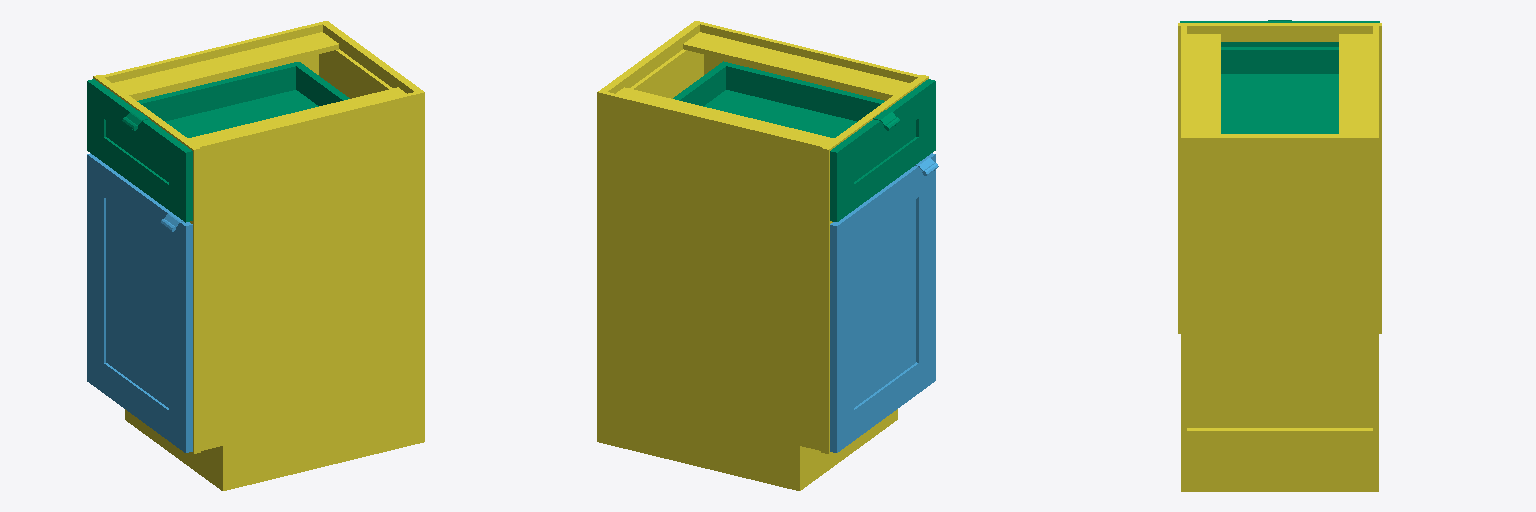
URDF robot description (partnet_1a4d4980bbe2dcf24da5feafe6f1c8fc):
<?xml version="1.0" ?>
<robot name="partnet_1a4d4980bbe2dcf24da5feafe6f1c8fc">
	<link name="base"/>
	<link name="link_0">
		<visual name="cabinet_door_surface-18">
			<origin xyz="0.3648322873359168 0.6121780276298523 -0.5319523066184498"/>
			<geometry>
				<mesh filename="textured_objs/original-43.obj"/>
			</geometry>
		</visual>
		<visual name="cabinet_door_surface-18">
			<origin xyz="0.3648322873359168 0.6121780276298523 -0.5319523066184498"/>
			<geometry>
				<mesh filename="textured_objs/original-44.obj"/>
			</geometry>
		</visual>
		<visual name="cabinet_door_surface-18">
			<origin xyz="0.3648322873359168 0.6121780276298523 -0.5319523066184498"/>
			<geometry>
				<mesh filename="textured_objs/original-49.obj"/>
			</geometry>
		</visual>
		<visual name="cabinet_door_surface-18">
			<origin xyz="0.3648322873359168 0.6121780276298523 -0.5319523066184498"/>
			<geometry>
				<mesh filename="textured_objs/original-46.obj"/>
			</geometry>
		</visual>
		<visual name="cabinet_door_surface-18">
			<origin xyz="0.3648322873359168 0.6121780276298523 -0.5319523066184498"/>
			<geometry>
				<mesh filename="textured_objs/original-45.obj"/>
			</geometry>
		</visual>
		<visual name="cabinet_door_surface-18">
			<origin xyz="0.3648322873359168 0.6121780276298523 -0.5319523066184498"/>
			<geometry>
				<mesh filename="textured_objs/original-48.obj"/>
			</geometry>
		</visual>
		<visual name="handle-19">
			<origin xyz="0.3648322873359168 0.6121780276298523 -0.5319523066184498"/>
			<geometry>
				<mesh filename="textured_objs/original-50.obj"/>
			</geometry>
		</visual>
		<collision>
			<origin xyz="0.3648322873359168 0.6121780276298523 -0.5319523066184498"/>
			<geometry>
				<mesh filename="textured_objs/original-43.obj"/>
			</geometry>
		</collision>
		<collision>
			<origin xyz="0.3648322873359168 0.6121780276298523 -0.5319523066184498"/>
			<geometry>
				<mesh filename="textured_objs/original-44.obj"/>
			</geometry>
		</collision>
		<collision>
			<origin xyz="0.3648322873359168 0.6121780276298523 -0.5319523066184498"/>
			<geometry>
				<mesh filename="textured_objs/original-49.obj"/>
			</geometry>
		</collision>
		<collision>
			<origin xyz="0.3648322873359168 0.6121780276298523 -0.5319523066184498"/>
			<geometry>
				<mesh filename="textured_objs/original-46.obj"/>
			</geometry>
		</collision>
		<collision>
			<origin xyz="0.3648322873359168 0.6121780276298523 -0.5319523066184498"/>
			<geometry>
				<mesh filename="textured_objs/original-45.obj"/>
			</geometry>
		</collision>
		<collision>
			<origin xyz="0.3648322873359168 0.6121780276298523 -0.5319523066184498"/>
			<geometry>
				<mesh filename="textured_objs/original-48.obj"/>
			</geometry>
		</collision>
		<collision>
			<origin xyz="0.3648322873359168 0.6121780276298523 -0.5319523066184498"/>
			<geometry>
				<mesh filename="textured_objs/original-50.obj"/>
			</geometry>
		</collision>
	</link>
	<joint name="joint_0" type="revolute">
		<origin xyz="-0.3648322873359168 -0.6121780276298523 0.5319523066184498"/>
		<axis xyz="0 -1 0"/>
		<child link="link_0"/>
		<parent link="link_2"/>
		<limit lower="0.0" upper="1.5707963267948966"/>
	</joint>
	<link name="link_1">
		<visual name="drawer_side-9">
			<origin xyz="0.00013619157295713738 -0.5032412121411816 0.478222995996475"/>
			<geometry>
				<mesh filename="textured_objs/original-30.obj"/>
			</geometry>
		</visual>
		<visual name="drawer_side-10">
			<origin xyz="0.00013619157295713738 -0.5032412121411816 0.478222995996475"/>
			<geometry>
				<mesh filename="textured_objs/original-25.obj"/>
			</geometry>
		</visual>
		<visual name="drawer_back-11">
			<origin xyz="0.00013619157295713738 -0.5032412121411816 0.478222995996475"/>
			<geometry>
				<mesh filename="textured_objs/original-31.obj"/>
			</geometry>
		</visual>
		<visual name="drawer_bottom-12">
			<origin xyz="0.00013619157295713738 -0.5032412121411816 0.478222995996475"/>
			<geometry>
				<mesh filename="textured_objs/original-29.obj"/>
			</geometry>
		</visual>
		<visual name="drawer_bottom-12">
			<origin xyz="0.00013619157295713738 -0.5032412121411816 0.478222995996475"/>
			<geometry>
				<mesh filename="textured_objs/original-28.obj"/>
			</geometry>
		</visual>
		<visual name="drawer_front-14">
			<origin xyz="0.00013619157295713738 -0.5032412121411816 0.478222995996475"/>
			<geometry>
				<mesh filename="textured_objs/original-39.obj"/>
			</geometry>
		</visual>
		<visual name="drawer_front-14">
			<origin xyz="0.00013619157295713738 -0.5032412121411816 0.478222995996475"/>
			<geometry>
				<mesh filename="textured_objs/original-26.obj"/>
			</geometry>
		</visual>
		<visual name="drawer_front-15">
			<origin xyz="0.00013619157295713738 -0.5032412121411816 0.478222995996475"/>
			<geometry>
				<mesh filename="textured_objs/original-34.obj"/>
			</geometry>
		</visual>
		<visual name="drawer_front-15">
			<origin xyz="0.00013619157295713738 -0.5032412121411816 0.478222995996475"/>
			<geometry>
				<mesh filename="textured_objs/original-36.obj"/>
			</geometry>
		</visual>
		<visual name="drawer_front-15">
			<origin xyz="0.00013619157295713738 -0.5032412121411816 0.478222995996475"/>
			<geometry>
				<mesh filename="textured_objs/original-37.obj"/>
			</geometry>
		</visual>
		<visual name="drawer_front-15">
			<origin xyz="0.00013619157295713738 -0.5032412121411816 0.478222995996475"/>
			<geometry>
				<mesh filename="textured_objs/original-40.obj"/>
			</geometry>
		</visual>
		<visual name="drawer_front-15">
			<origin xyz="0.00013619157295713738 -0.5032412121411816 0.478222995996475"/>
			<geometry>
				<mesh filename="textured_objs/original-35.obj"/>
			</geometry>
		</visual>
		<visual name="other_leaf-17">
			<origin xyz="0.00013619157295713738 -0.5032412121411816 0.478222995996475"/>
			<geometry>
				<mesh filename="textured_objs/original-32.obj"/>
			</geometry>
		</visual>
		<visual name="handle-13">
			<origin xyz="0.00013619157295713738 -0.5032412121411816 0.478222995996475"/>
			<geometry>
				<mesh filename="textured_objs/original-41.obj"/>
			</geometry>
		</visual>
		<collision>
			<origin xyz="0.00013619157295713738 -0.5032412121411816 0.478222995996475"/>
			<geometry>
				<mesh filename="textured_objs/original-30.obj"/>
			</geometry>
		</collision>
		<collision>
			<origin xyz="0.00013619157295713738 -0.5032412121411816 0.478222995996475"/>
			<geometry>
				<mesh filename="textured_objs/original-25.obj"/>
			</geometry>
		</collision>
		<collision>
			<origin xyz="0.00013619157295713738 -0.5032412121411816 0.478222995996475"/>
			<geometry>
				<mesh filename="textured_objs/original-31.obj"/>
			</geometry>
		</collision>
		<collision>
			<origin xyz="0.00013619157295713738 -0.5032412121411816 0.478222995996475"/>
			<geometry>
				<mesh filename="textured_objs/original-29.obj"/>
			</geometry>
		</collision>
		<collision>
			<origin xyz="0.00013619157295713738 -0.5032412121411816 0.478222995996475"/>
			<geometry>
				<mesh filename="textured_objs/original-28.obj"/>
			</geometry>
		</collision>
		<collision>
			<origin xyz="0.00013619157295713738 -0.5032412121411816 0.478222995996475"/>
			<geometry>
				<mesh filename="textured_objs/original-39.obj"/>
			</geometry>
		</collision>
		<collision>
			<origin xyz="0.00013619157295713738 -0.5032412121411816 0.478222995996475"/>
			<geometry>
				<mesh filename="textured_objs/original-26.obj"/>
			</geometry>
		</collision>
		<collision>
			<origin xyz="0.00013619157295713738 -0.5032412121411816 0.478222995996475"/>
			<geometry>
				<mesh filename="textured_objs/original-34.obj"/>
			</geometry>
		</collision>
		<collision>
			<origin xyz="0.00013619157295713738 -0.5032412121411816 0.478222995996475"/>
			<geometry>
				<mesh filename="textured_objs/original-36.obj"/>
			</geometry>
		</collision>
		<collision>
			<origin xyz="0.00013619157295713738 -0.5032412121411816 0.478222995996475"/>
			<geometry>
				<mesh filename="textured_objs/original-37.obj"/>
			</geometry>
		</collision>
		<collision>
			<origin xyz="0.00013619157295713738 -0.5032412121411816 0.478222995996475"/>
			<geometry>
				<mesh filename="textured_objs/original-40.obj"/>
			</geometry>
		</collision>
		<collision>
			<origin xyz="0.00013619157295713738 -0.5032412121411816 0.478222995996475"/>
			<geometry>
				<mesh filename="textured_objs/original-35.obj"/>
			</geometry>
		</collision>
		<collision>
			<origin xyz="0.00013619157295713738 -0.5032412121411816 0.478222995996475"/>
			<geometry>
				<mesh filename="textured_objs/original-32.obj"/>
			</geometry>
		</collision>
		<collision>
			<origin xyz="0.00013619157295713738 -0.5032412121411816 0.478222995996475"/>
			<geometry>
				<mesh filename="textured_objs/original-41.obj"/>
			</geometry>
		</collision>
	</link>
	<joint name="joint_1" type="prismatic">
		<origin xyz="-0.00013619157295713738 0.5032412121411816 -0.478222995996475"/>
		<axis xyz="0 0 1"/>
		<child link="link_1"/>
		<parent link="link_2"/>
		<limit lower="0" upper="0.7200000000000002"/>
	</joint>
	<link name="link_2">
		<visual name="shelf-44">
			<origin xyz="0 0 0"/>
			<geometry>
				<mesh filename="textured_objs/original-2.obj"/>
			</geometry>
		</visual>
		<visual name="bottom_panel-28">
			<origin xyz="0 0 0"/>
			<geometry>
				<mesh filename="textured_objs/original-3.obj"/>
			</geometry>
		</visual>
		<visual name="frame_vertical_bar-30">
			<origin xyz="0 0 0"/>
			<geometry>
				<mesh filename="textured_objs/original-4.obj"/>
			</geometry>
		</visual>
		<visual name="frame_vertical_bar-31">
			<origin xyz="0 0 0"/>
			<geometry>
				<mesh filename="textured_objs/original-8.obj"/>
			</geometry>
		</visual>
		<visual name="frame_horizontal_bar-32">
			<origin xyz="0 0 0"/>
			<geometry>
				<mesh filename="textured_objs/original-22.obj"/>
			</geometry>
		</visual>
		<visual name="frame_horizontal_bar-33">
			<origin xyz="0 0 0"/>
			<geometry>
				<mesh filename="textured_objs/original-21.obj"/>
			</geometry>
		</visual>
		<visual name="frame_horizontal_bar-34">
			<origin xyz="0 0 0"/>
			<geometry>
				<mesh filename="textured_objs/original-18.obj"/>
			</geometry>
		</visual>
		<visual name="vertical_side_panel-35">
			<origin xyz="0 0 0"/>
			<geometry>
				<mesh filename="textured_objs/original-16.obj"/>
			</geometry>
		</visual>
		<visual name="vertical_side_panel-35">
			<origin xyz="0 0 0"/>
			<geometry>
				<mesh filename="textured_objs/original-15.obj"/>
			</geometry>
		</visual>
		<visual name="vertical_side_panel-36">
			<origin xyz="0 0 0"/>
			<geometry>
				<mesh filename="textured_objs/original-12.obj"/>
			</geometry>
		</visual>
		<visual name="vertical_side_panel-36">
			<origin xyz="0 0 0"/>
			<geometry>
				<mesh filename="textured_objs/original-11.obj"/>
			</geometry>
		</visual>
		<visual name="back_panel-37">
			<origin xyz="0 0 0"/>
			<geometry>
				<mesh filename="textured_objs/original-6.obj"/>
			</geometry>
		</visual>
		<visual name="frame_horizontal_bar-38">
			<origin xyz="0 0 0"/>
			<geometry>
				<mesh filename="textured_objs/original-5.obj"/>
			</geometry>
		</visual>
		<visual name="frame_horizontal_bar-40">
			<origin xyz="0 0 0"/>
			<geometry>
				<mesh filename="textured_objs/original-7.obj"/>
			</geometry>
		</visual>
		<visual name="frame_horizontal_bar-41">
			<origin xyz="0 0 0"/>
			<geometry>
				<mesh filename="textured_objs/original-9.obj"/>
			</geometry>
		</visual>
		<visual name="other_leaf-43">
			<origin xyz="0 0 0"/>
			<geometry>
				<mesh filename="textured_objs/original-51.obj"/>
			</geometry>
		</visual>
		<visual name="base_side_panel-21">
			<origin xyz="0 0 0"/>
			<geometry>
				<mesh filename="textured_objs/original-13.obj"/>
			</geometry>
		</visual>
		<visual name="base_side_panel-22">
			<origin xyz="0 0 0"/>
			<geometry>
				<mesh filename="textured_objs/original-17.obj"/>
			</geometry>
		</visual>
		<visual name="base_side_panel-23">
			<origin xyz="0 0 0"/>
			<geometry>
				<mesh filename="textured_objs/original-19.obj"/>
			</geometry>
		</visual>
		<visual name="base_side_panel-24">
			<origin xyz="0 0 0"/>
			<geometry>
				<mesh filename="textured_objs/original-20.obj"/>
			</geometry>
		</visual>
		<collision>
			<origin xyz="0 0 0"/>
			<geometry>
				<mesh filename="textured_objs/original-2.obj"/>
			</geometry>
		</collision>
		<collision>
			<origin xyz="0 0 0"/>
			<geometry>
				<mesh filename="textured_objs/original-3.obj"/>
			</geometry>
		</collision>
		<collision>
			<origin xyz="0 0 0"/>
			<geometry>
				<mesh filename="textured_objs/original-4.obj"/>
			</geometry>
		</collision>
		<collision>
			<origin xyz="0 0 0"/>
			<geometry>
				<mesh filename="textured_objs/original-8.obj"/>
			</geometry>
		</collision>
		<collision>
			<origin xyz="0 0 0"/>
			<geometry>
				<mesh filename="textured_objs/original-22.obj"/>
			</geometry>
		</collision>
		<collision>
			<origin xyz="0 0 0"/>
			<geometry>
				<mesh filename="textured_objs/original-21.obj"/>
			</geometry>
		</collision>
		<collision>
			<origin xyz="0 0 0"/>
			<geometry>
				<mesh filename="textured_objs/original-18.obj"/>
			</geometry>
		</collision>
		<collision>
			<origin xyz="0 0 0"/>
			<geometry>
				<mesh filename="textured_objs/original-16.obj"/>
			</geometry>
		</collision>
		<collision>
			<origin xyz="0 0 0"/>
			<geometry>
				<mesh filename="textured_objs/original-15.obj"/>
			</geometry>
		</collision>
		<collision>
			<origin xyz="0 0 0"/>
			<geometry>
				<mesh filename="textured_objs/original-12.obj"/>
			</geometry>
		</collision>
		<collision>
			<origin xyz="0 0 0"/>
			<geometry>
				<mesh filename="textured_objs/original-11.obj"/>
			</geometry>
		</collision>
		<collision>
			<origin xyz="0 0 0"/>
			<geometry>
				<mesh filename="textured_objs/original-6.obj"/>
			</geometry>
		</collision>
		<collision>
			<origin xyz="0 0 0"/>
			<geometry>
				<mesh filename="textured_objs/original-5.obj"/>
			</geometry>
		</collision>
		<collision>
			<origin xyz="0 0 0"/>
			<geometry>
				<mesh filename="textured_objs/original-7.obj"/>
			</geometry>
		</collision>
		<collision>
			<origin xyz="0 0 0"/>
			<geometry>
				<mesh filename="textured_objs/original-9.obj"/>
			</geometry>
		</collision>
		<collision>
			<origin xyz="0 0 0"/>
			<geometry>
				<mesh filename="textured_objs/original-51.obj"/>
			</geometry>
		</collision>
		<collision>
			<origin xyz="0 0 0"/>
			<geometry>
				<mesh filename="textured_objs/original-13.obj"/>
			</geometry>
		</collision>
		<collision>
			<origin xyz="0 0 0"/>
			<geometry>
				<mesh filename="textured_objs/original-17.obj"/>
			</geometry>
		</collision>
		<collision>
			<origin xyz="0 0 0"/>
			<geometry>
				<mesh filename="textured_objs/original-19.obj"/>
			</geometry>
		</collision>
		<collision>
			<origin xyz="0 0 0"/>
			<geometry>
				<mesh filename="textured_objs/original-20.obj"/>
			</geometry>
		</collision>
	</link>
	<joint name="joint_2" type="fixed">
		<origin rpy="1.570796326794897 0 -1.570796326794897" xyz="0 0 0"/>
		<child link="link_2"/>
		<parent link="base"/>
	</joint>
</robot>

--- Facts derived from the render (not from the file) ---
The picture shows the robot from 3 angles, left to right: view 1: azimuth 30°, elevation 25°; view 2: azimuth 150°, elevation 25°; view 3: azimuth 270°, elevation 25°; orthographic projection.
Robot: partnet_1a4d4980bbe2dcf24da5feafe6f1c8fc — 4 links, 3 joints (1 revolute, 1 prismatic, 1 fixed); root link base; default pose: all joints at 0.
Links seen in each view (by area): view 1: link_2, link_0, link_1; view 2: link_2, link_0, link_1; view 3: link_2, link_1.
Link boxes in pixels (x1,y1,x2,y2): link_2: (93, 21, 424, 490); link_0: (87, 153, 192, 452); link_1: (87, 62, 349, 222); link_2: (597, 21, 928, 490); link_0: (830, 153, 938, 452); link_1: (673, 61, 935, 221); link_2: (1178, 23, 1381, 491); link_1: (1180, 20, 1379, 133).
Bounding box of the posed robot: 1.12 × 0.7838 × 1.5 m (x, y, z).
Meshes: 41 distinct files referenced, 41 mesh visuals loaded (41 OBJ).
